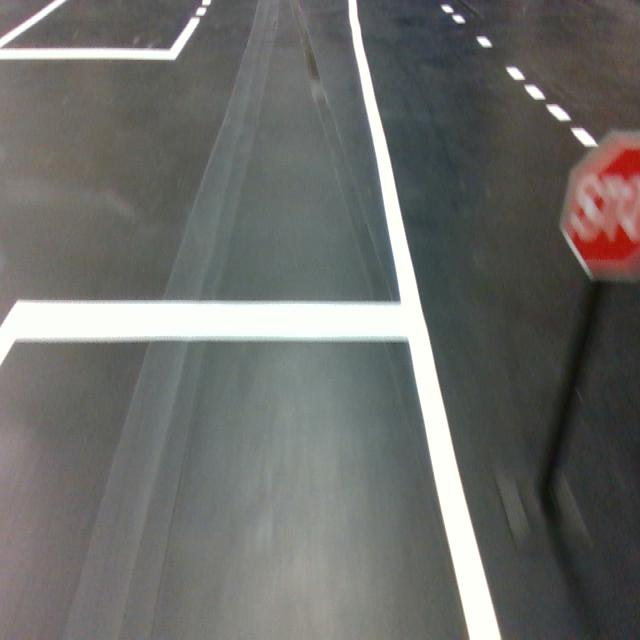stop-sign: (556, 126, 640, 282)
